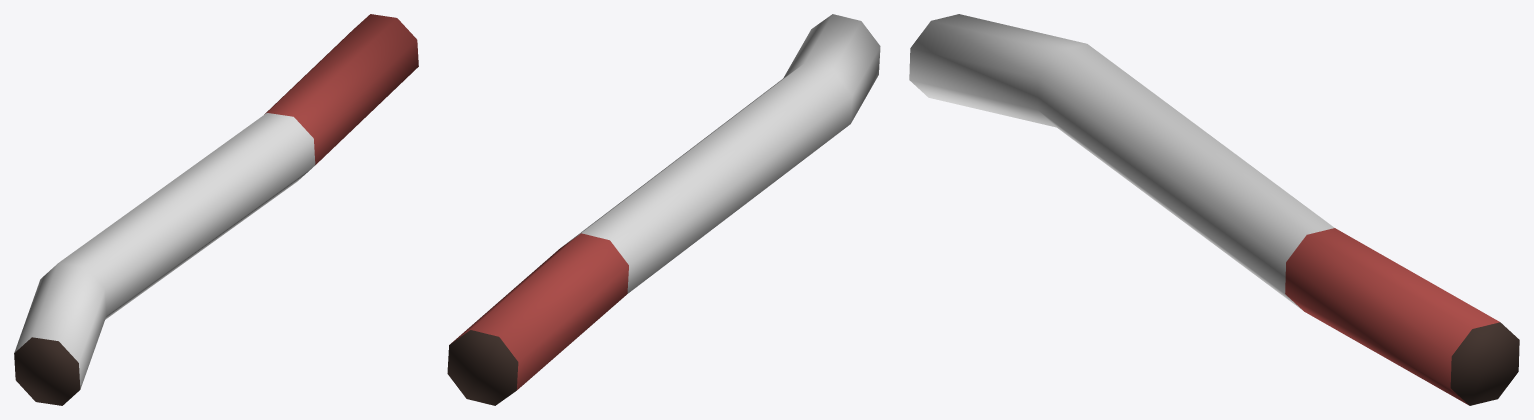
The model's file is cigar1.glb.
3 renders of one model, left to right at view 1: azimuth 30°, elevation 25°; view 2: azimuth 210°, elevation 25°; view 3: azimuth 270°, elevation 25°, orthographic. The views are drawn at different scales.
Visible parts, largest first — view 1: prop_cigar.a; view 2: prop_cigar.a; view 3: prop_cigar.a.
Boxes of the visible parts, <box> form: prop_cigar.a: <box>14,14,418,405</box>; prop_cigar.a: <box>447,14,880,405</box>; prop_cigar.a: <box>909,14,1519,405</box>.
Bounding box in the file's own units: 0.1077 × 0.0136 × 0.0804.
